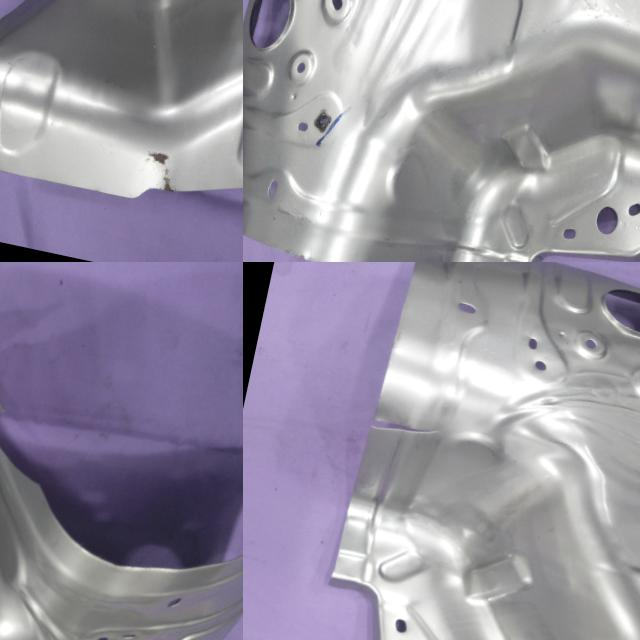Defect: (365, 401, 447, 456), (0, 407, 38, 487)
Healthy: (243, 0, 640, 262)
rust: (111, 126, 192, 208)
